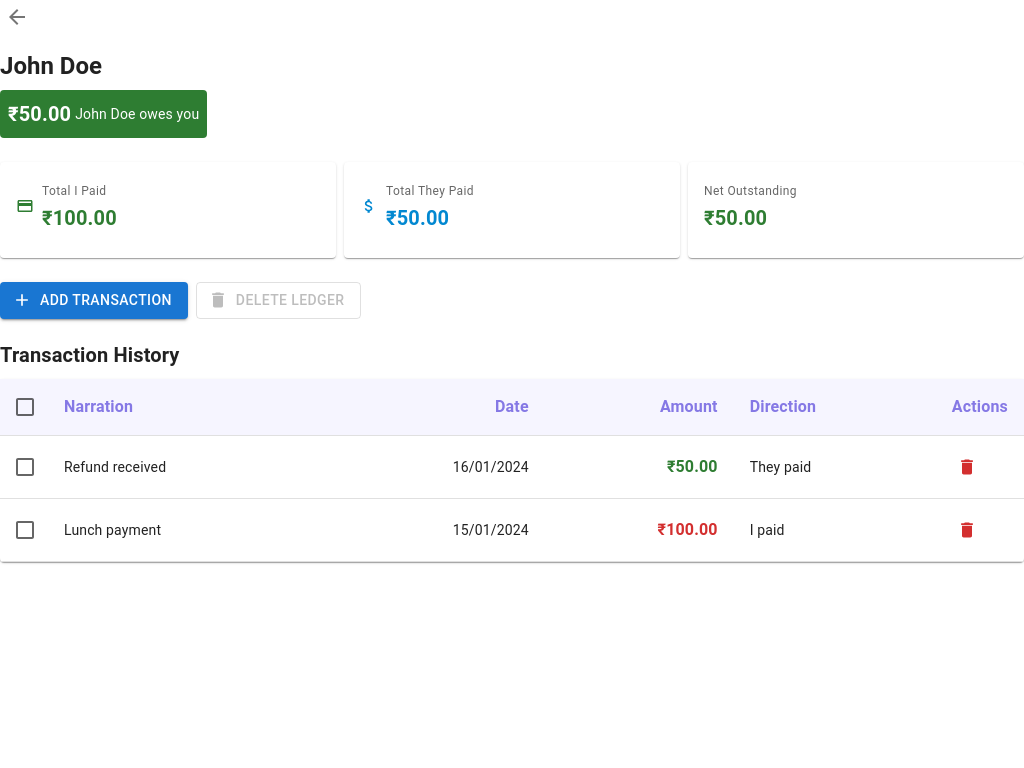
Test: LedgerDetails Component › opens the link transaction dialog when Add Transaction is clicked
Click the button "Add Transaction". click: (94, 300)
box: left=0, top=282, right=188, bottom=318
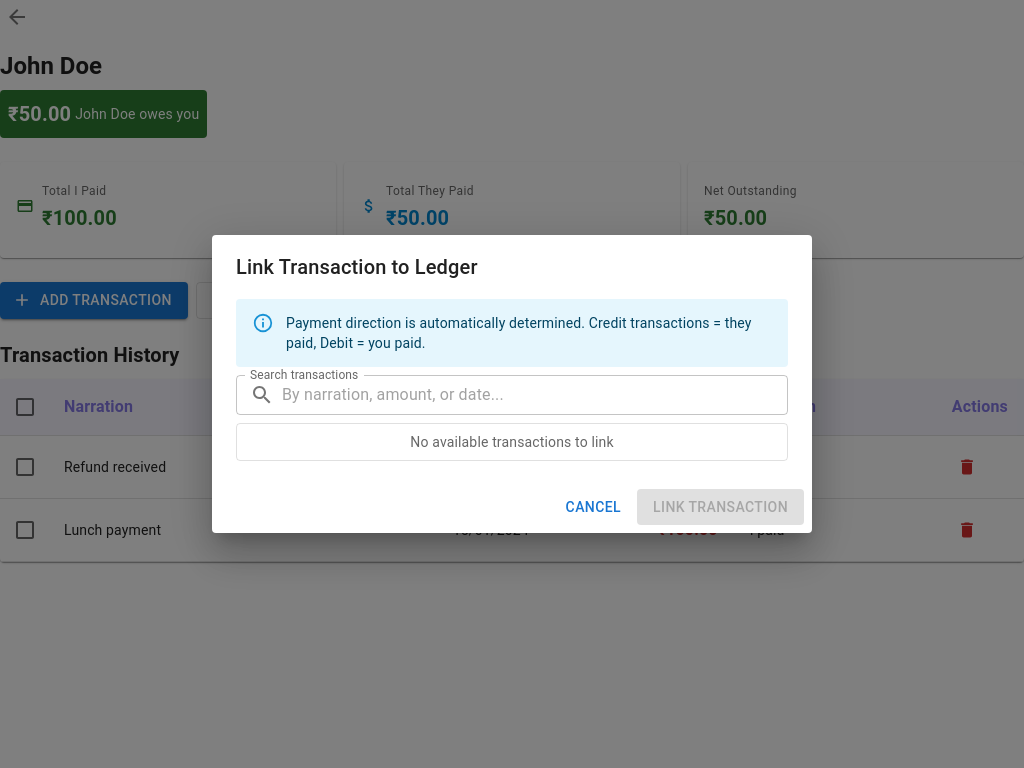
Result: the heading "Link Transaction to Ledger" is shown at left=236, top=255, right=478, bottom=279
